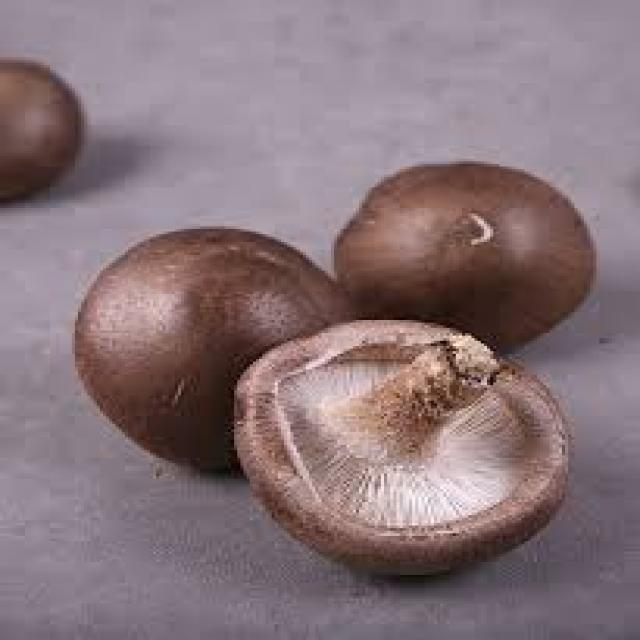mushroom: (237, 325, 571, 576)
